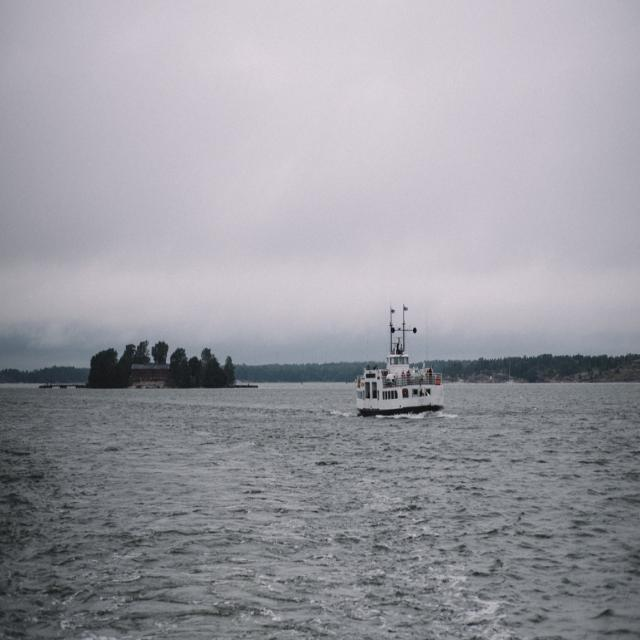fishing boat: (344, 297, 450, 422)
